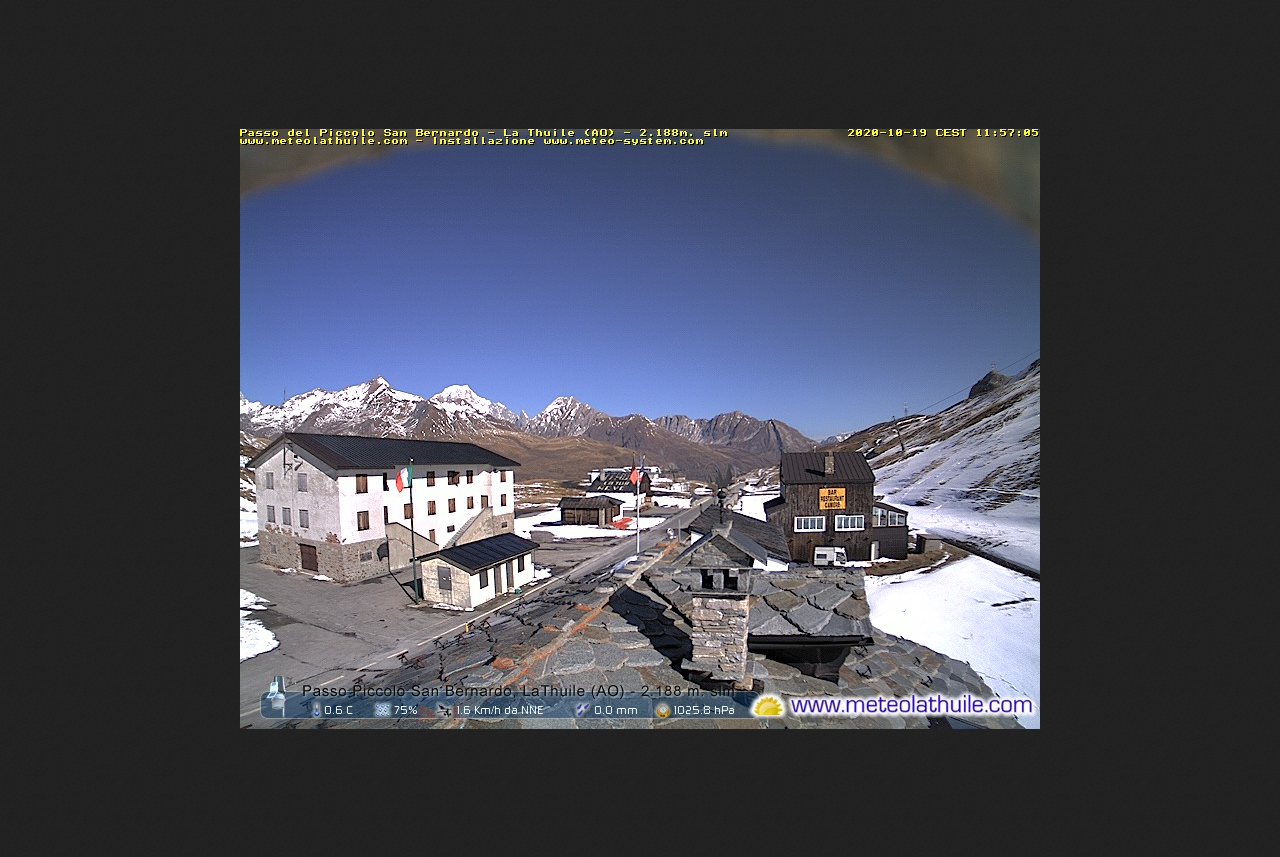maybe: (636, 462, 651, 485), (626, 461, 640, 484)
yes: (393, 466, 412, 491)
